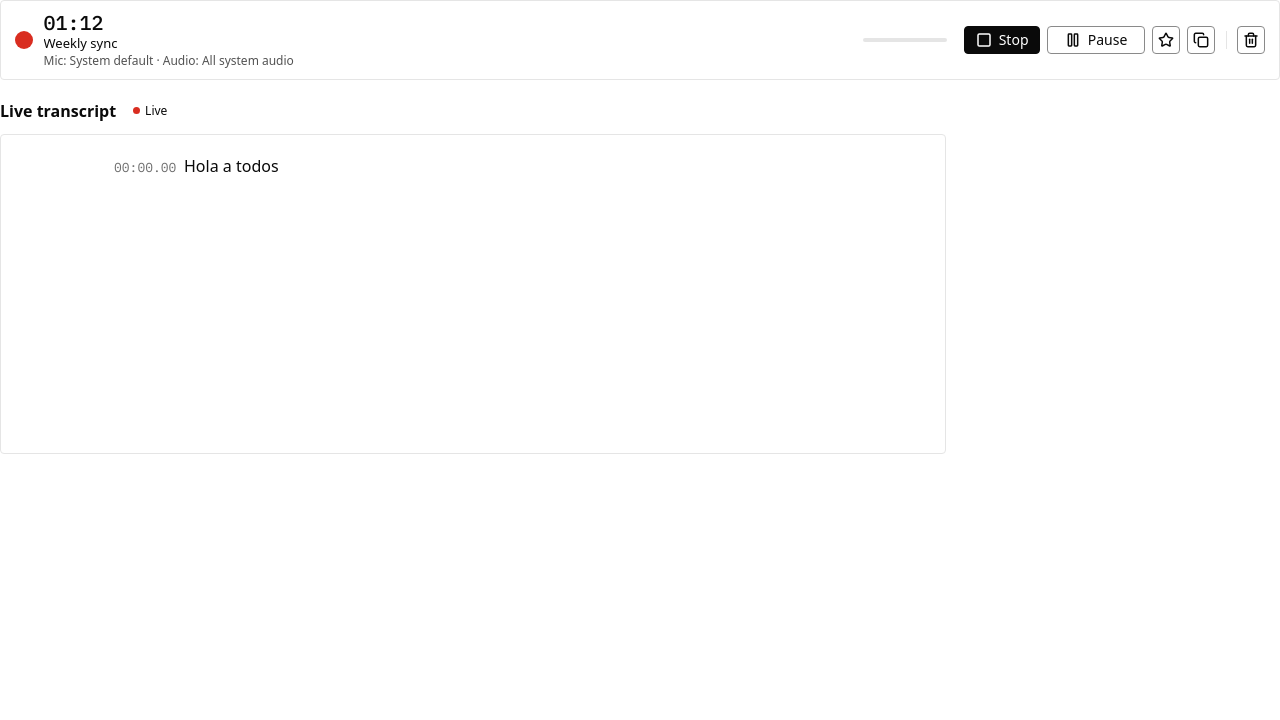
Test case: Discard (item 71) › asks first, defaults to Keep recording and discards nothing on Keep
Click the button named "Discard" at [1251, 40], box x1=1237 y1=26 x2=1265 y2=54
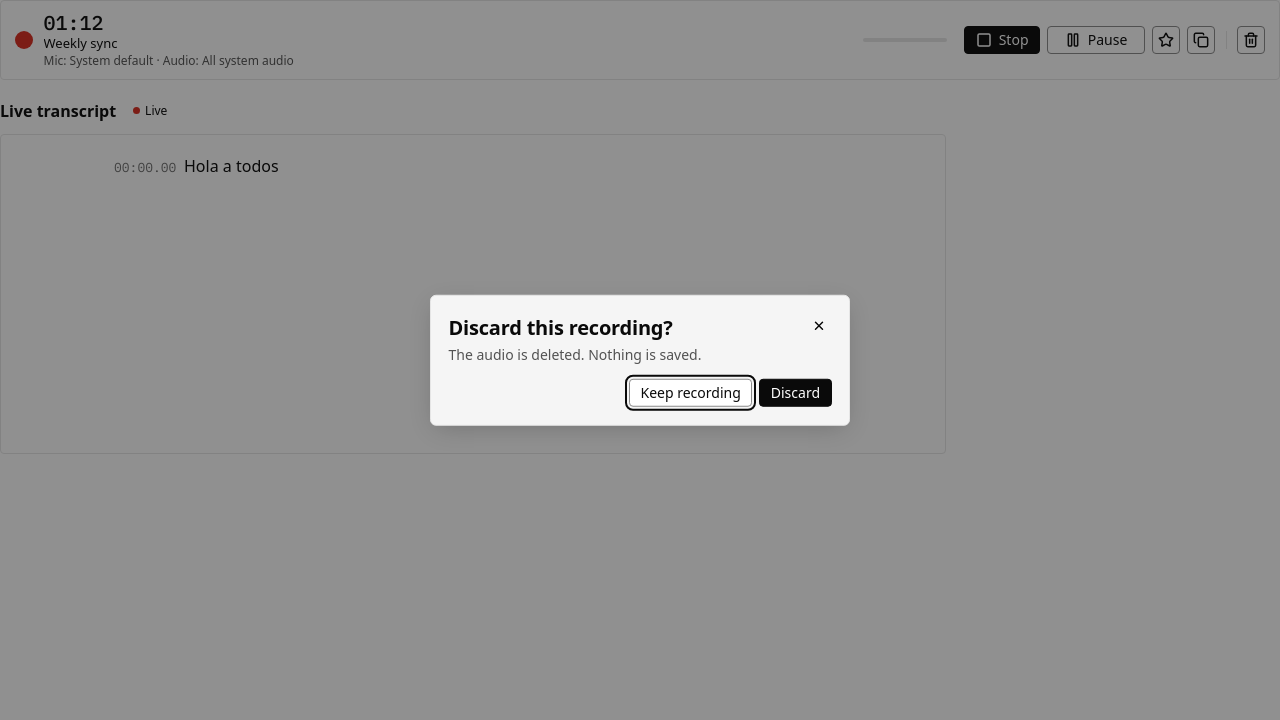
Check: the text "The audio is deleted. Nothing is saved." is shown, box x1=448 y1=345 x2=702 y2=365
Click the button "Keep recording" at [691, 393], box x1=629 y1=379 x2=752 y2=407
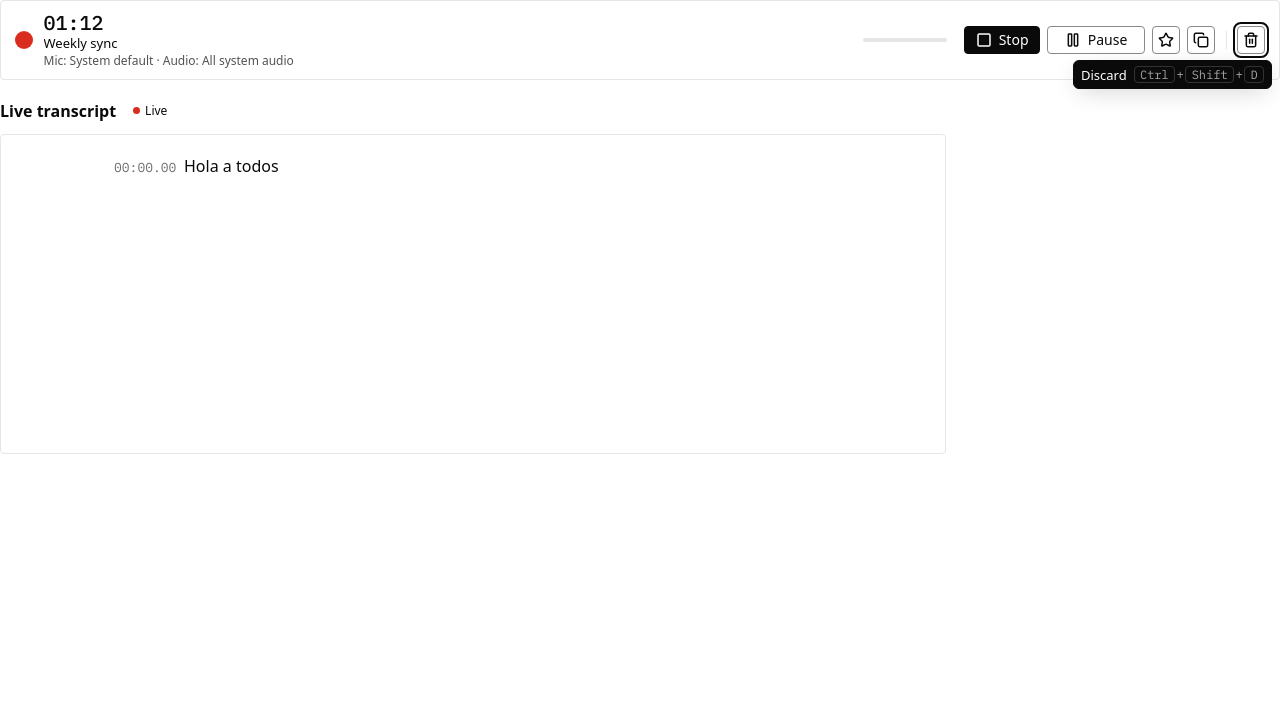
Check: the dialog is gone
